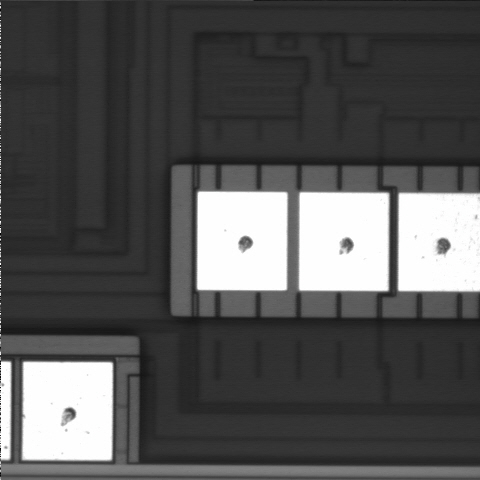pad: (299, 192, 389, 291), (197, 192, 287, 290), (23, 362, 113, 460)
